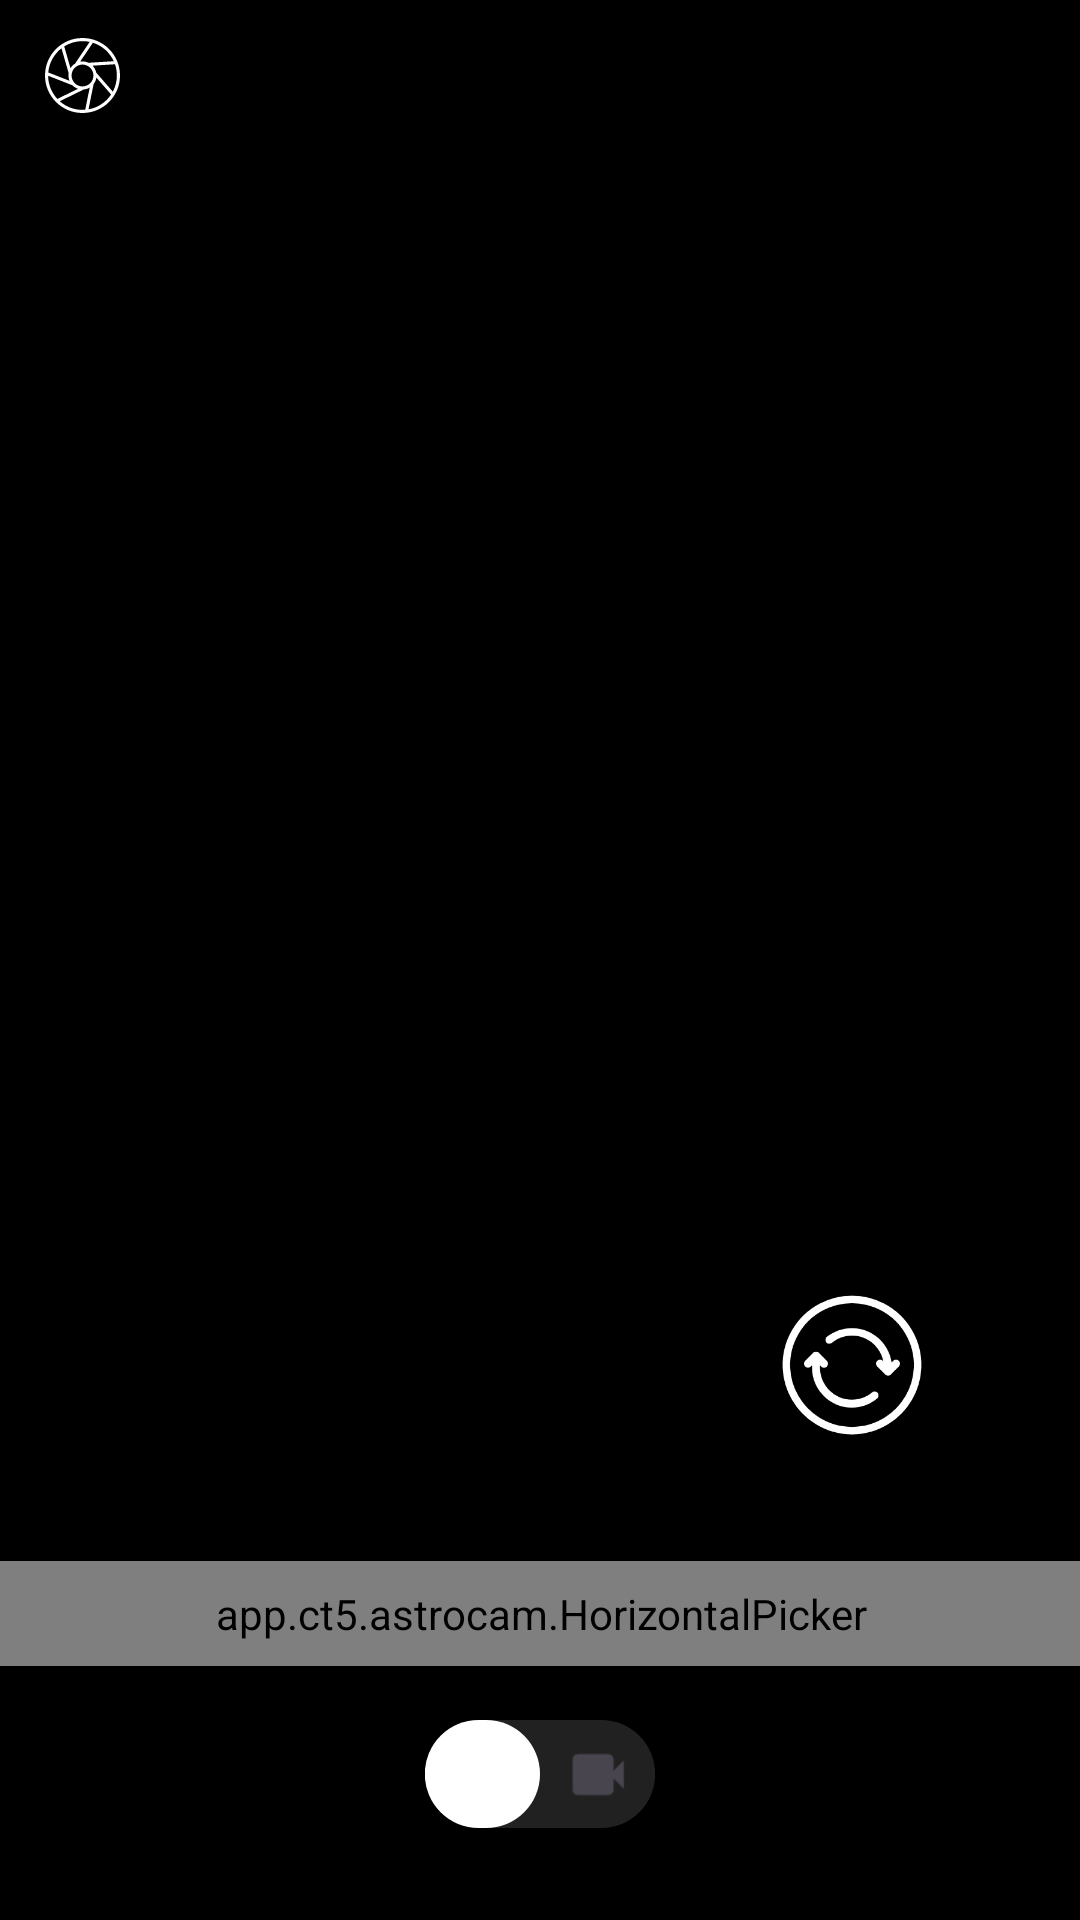

Screen size 1080 x 1920. Icon name, then its box in pixels as bbox(x1, y1, x2, y2):
Rotate: bbox(782, 1295, 922, 1435)
shutter: bbox(45, 38, 120, 113)
